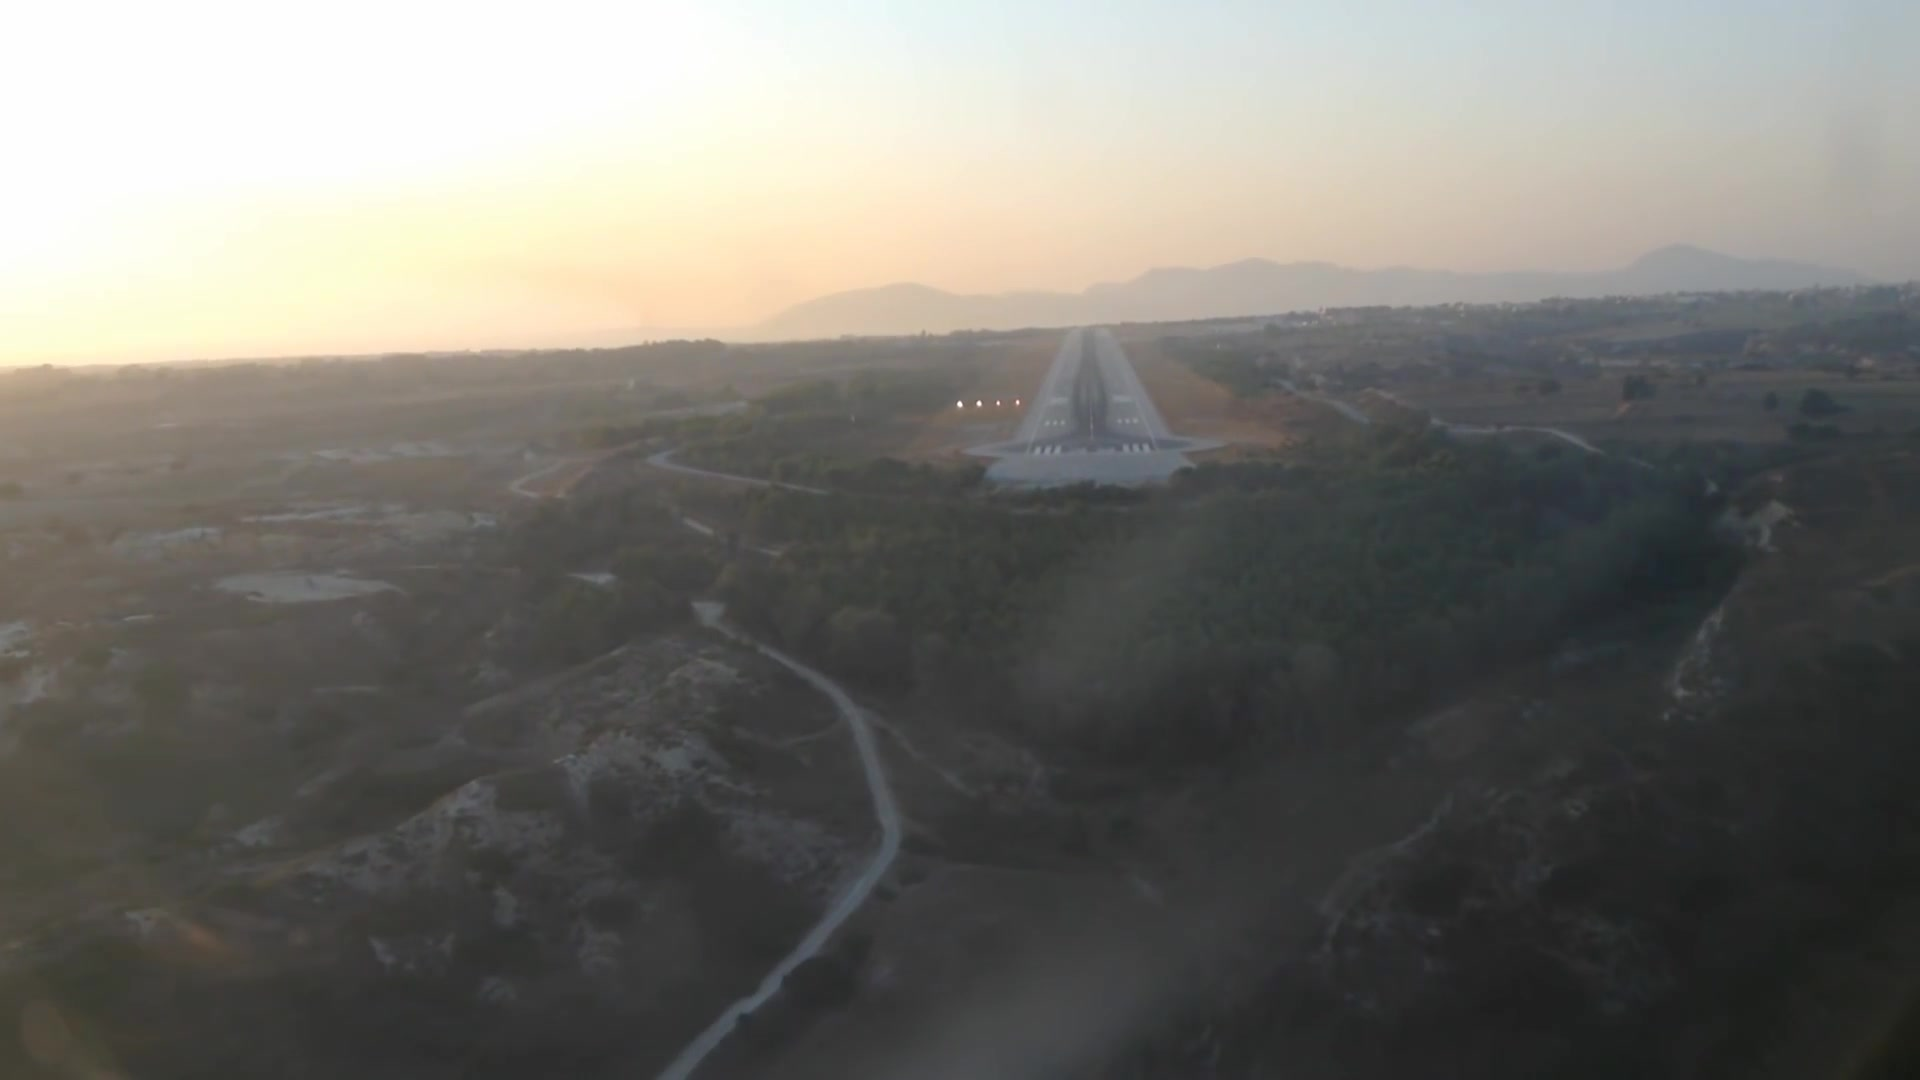entrance: (1031, 439, 1149, 458)
runway: (996, 327, 1189, 477)
